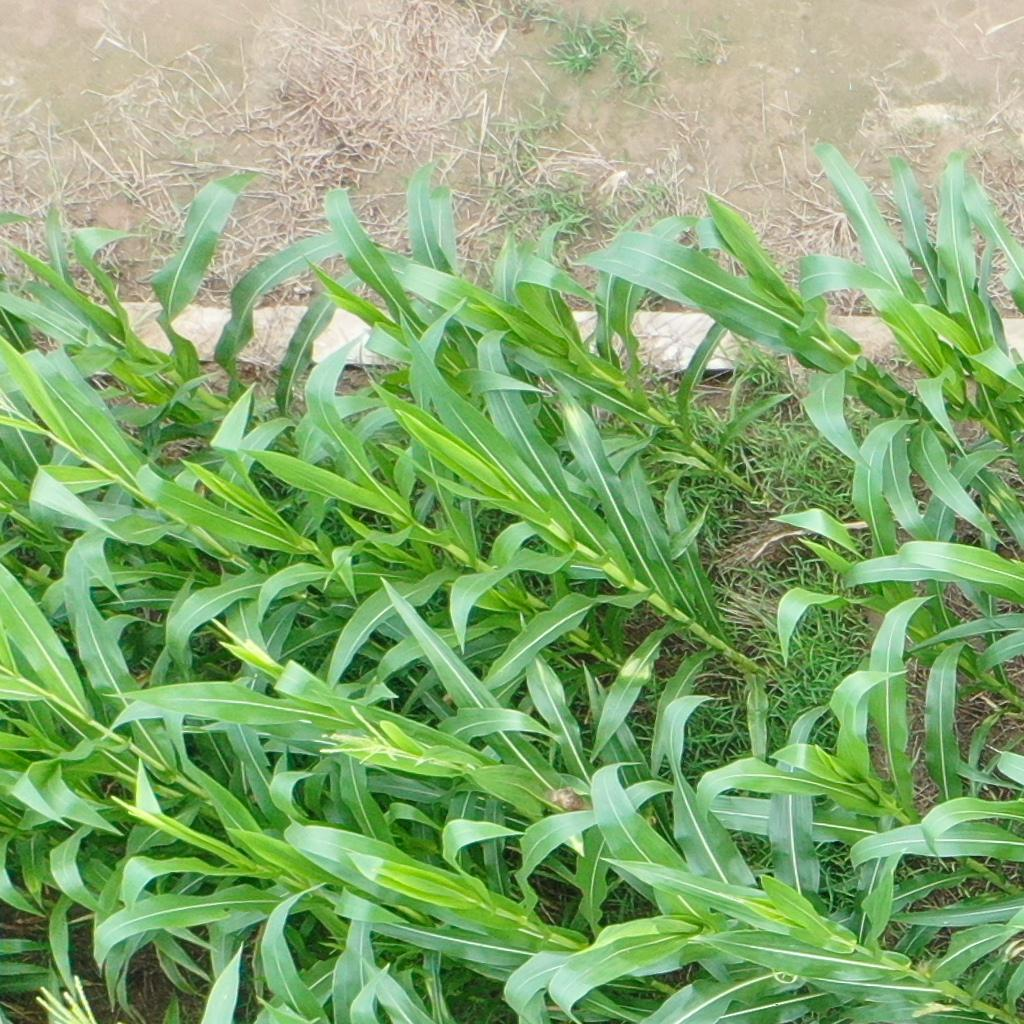Tassel: (316, 703, 421, 772), (208, 615, 285, 675), (34, 970, 99, 1024)
